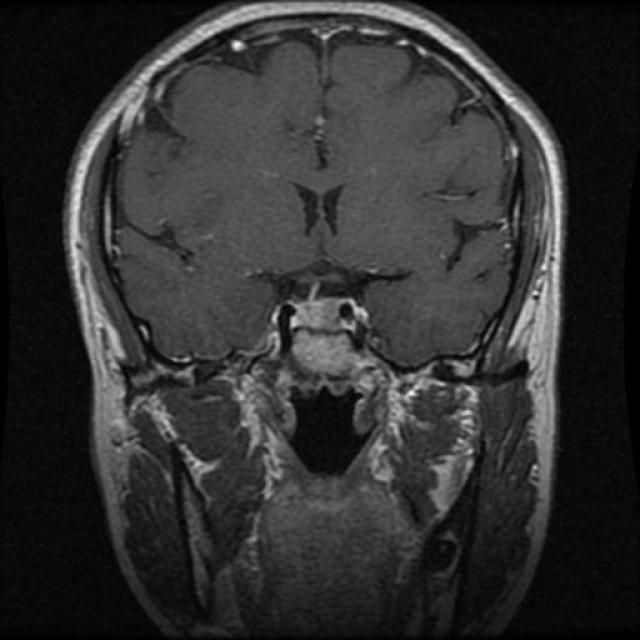pituitary: (261, 284, 385, 396)
